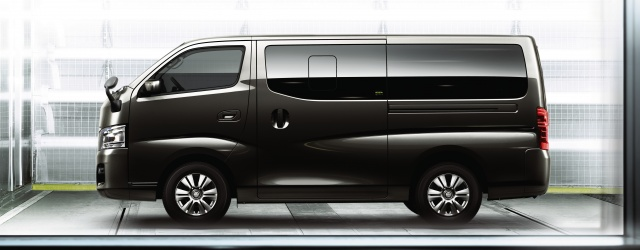van: (95, 32, 553, 224)
